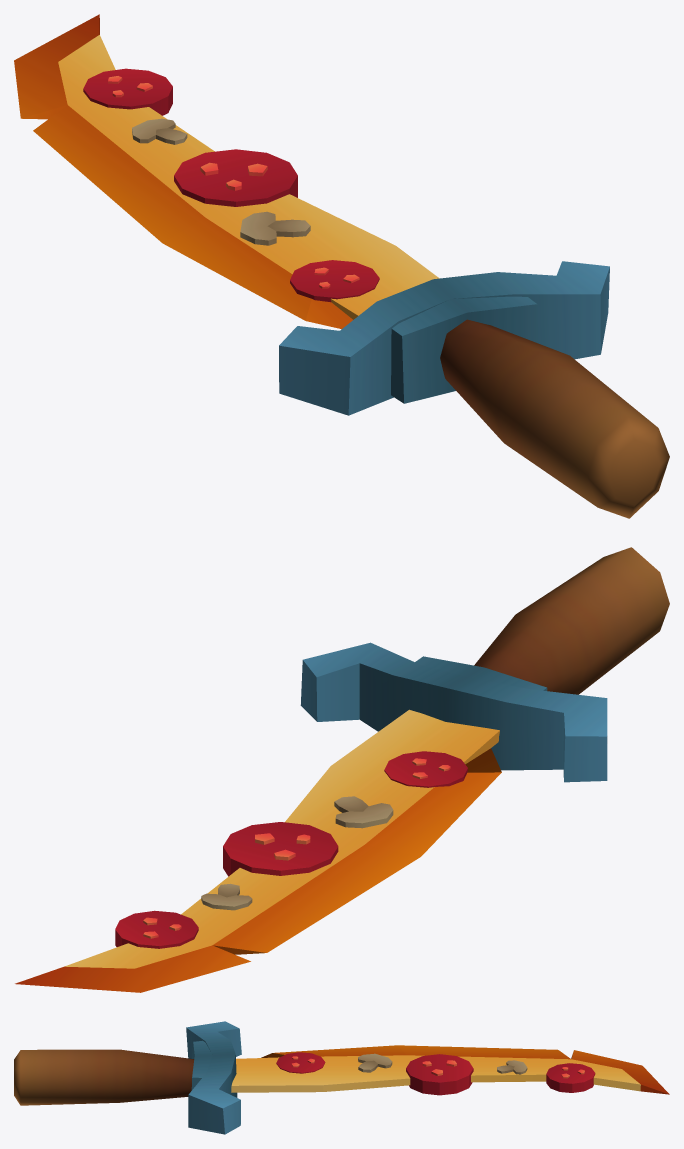
File: sword-pizza.fbx
3 views of the same model, one above another, from view 1: azimuth 30°, elevation 25°; view 2: azimuth 150°, elevation 25°; view 3: azimuth 270°, elevation 25° (orthographic). The views are drawn at different scales.
Parts seen in each view (by area): view 1: sword3h01; view 2: sword3h01; view 3: sword3h01.
Part boxes in pixels (x1,y1,x2,y2): sword3h01: (14, 14, 669, 518); sword3h01: (15, 547, 669, 992); sword3h01: (14, 1021, 669, 1134).
Size of the model in its own units: 15.64 by 4.64 by 49.52.
